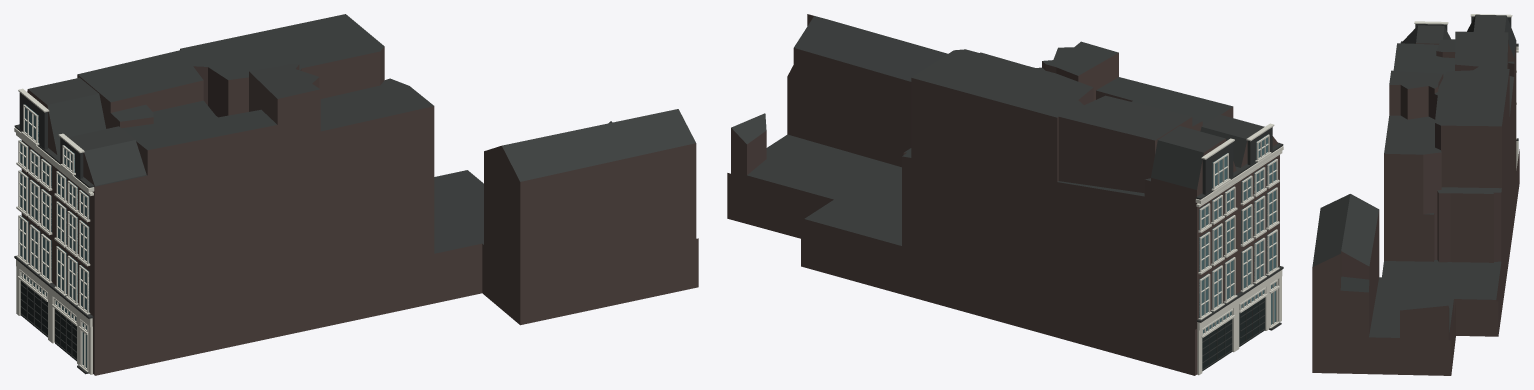
3 views of the same model, side by side, from view 1: azimuth 30°, elevation 25°; view 2: azimuth 150°, elevation 25°; view 3: azimuth 270°, elevation 25° (orthographic). The views are drawn at different scales.
Parts seen in each view (by area): view 1: 0363100012174397; view 2: 0363100012174397; view 3: 0363100012174397.
Boxes of the visible parts, left/top/right/bottom form: 0363100012174397: left=14, top=14, right=698, bottom=375; 0363100012174397: left=727, top=14, right=1283, bottom=375; 0363100012174397: left=1312, top=14, right=1519, bottom=375.
Size of the model in its own units: 44.22 by 18.04 by 19.59.
